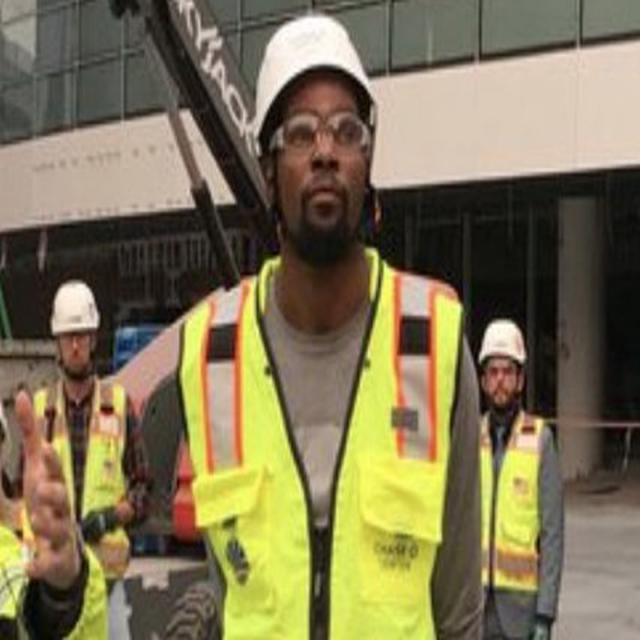Reflective-Jacket: (175, 259, 470, 629), (20, 373, 134, 600), (472, 406, 554, 600)
Safety-Helmet: (248, 8, 392, 138), (44, 269, 104, 344), (475, 312, 530, 370)
